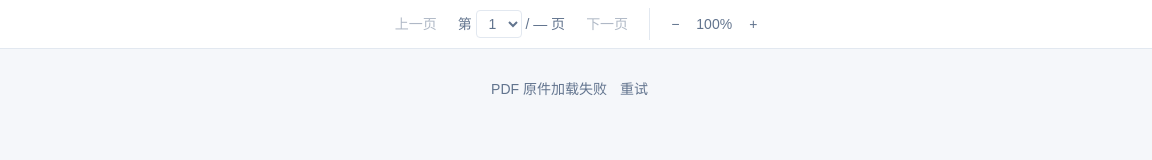
Test case: PDF原件阅读 › provides a real retry after loading fails
Expected: the message shows "PDF 原件加载失败", [491,81,607,97]
Click the button "重试" at (634, 89), box [607,73,661,105]
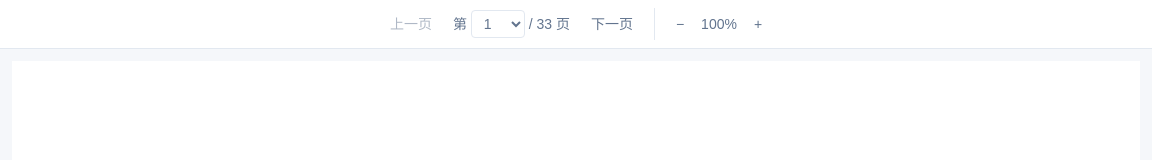
Expected: the message "PDF 原件加载失败 重试" is gone
